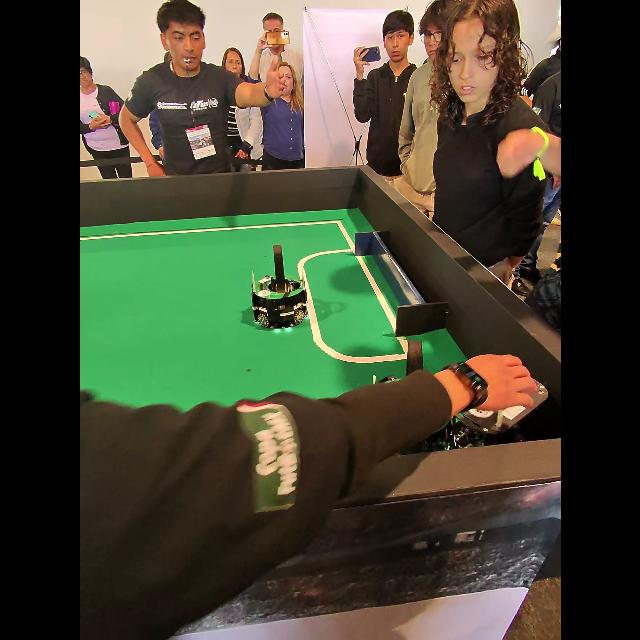goal: (354, 232, 448, 337)
robot: (251, 246, 307, 329)
